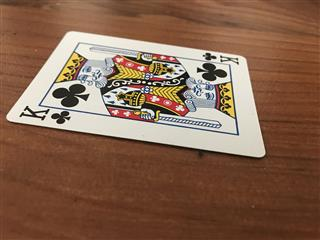KingOfClubs: (4, 29, 266, 159)
